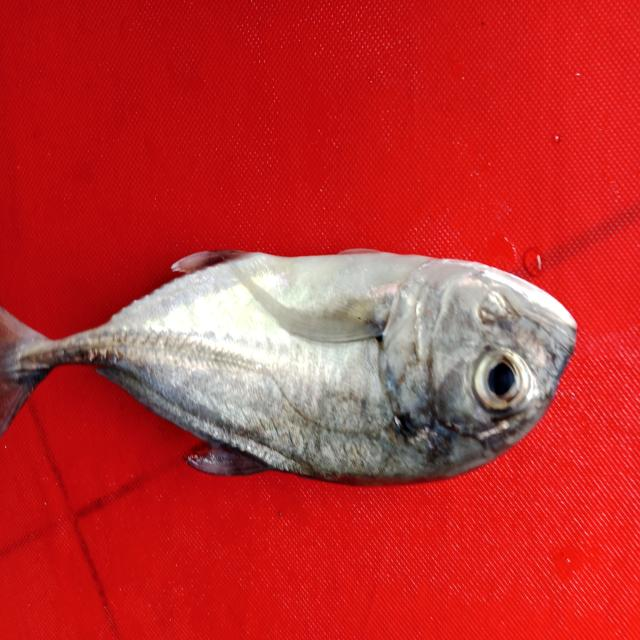ikan: (5, 213, 592, 512)
